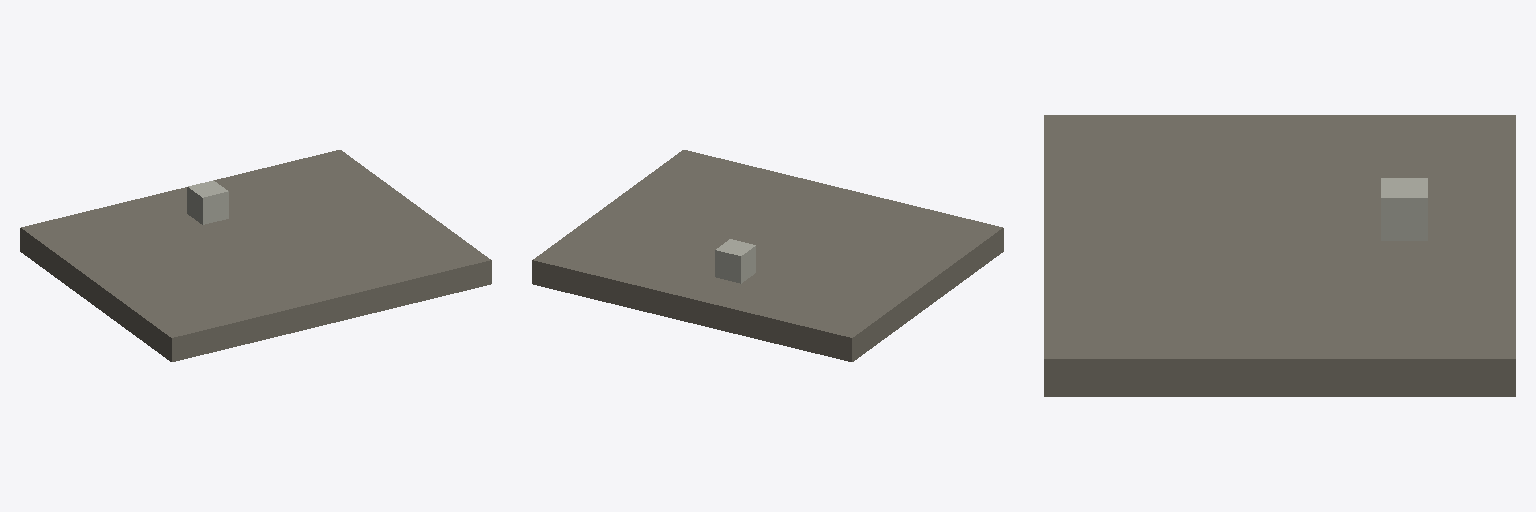
The robot description file, URDF, robot "parttoolgen_hammer_single_cube":
<?xml version="1.0"?>
<robot name="parttoolgen_hammer_single_cube">
  <link name="table_with_target_cube">
    <visual>
      <material name="wood">
        <color rgba="0.52 0.50 0.46 1.0"/>
      </material>
      <origin xyz="0 0 0"/>
      <geometry>
        <box size="0.55 0.45 0.04"/>
      </geometry>
    </visual>
    <collision>
      <origin xyz="0 0 0"/>
      <geometry>
        <box size="0.55 0.45 0.04"/>
      </geometry>
    </collision>

    <visual>
      <material name="target_cube">
        <color rgba="0.72 0.72 0.68 1.0"/>
      </material>
      <origin xyz="-0.013422374156287734 0.11929972616153778 0.042499999999999996"/>
      <geometry>
        <box size="0.045 0.045 0.045"/>
      </geometry>
    </visual>
    <collision>
      <origin xyz="-0.013422374156287734 0.11929972616153778 0.042499999999999996"/>
      <geometry>
        <box size="0.045 0.045 0.045"/>
      </geometry>
    </collision>

    <inertial>
      <mass value="500"/>
      <friction value="1.0"/>
      <inertia ixx="1000.0" ixy="0.0" ixz="0.0" iyy="1000.0" iyz="0.0" izz="1000.0"/>
    </inertial>
  </link>
</robot>

--- Render facts (derived) ---
The picture shows the robot from 3 angles, left to right: view 1: azimuth 30°, elevation 25°; view 2: azimuth 150°, elevation 25°; view 3: azimuth 270°, elevation 25°; orthographic projection.
Robot: parttoolgen_hammer_single_cube — 1 links, 0 joints (none); root link table_with_target_cube; default pose: every joint at zero.
Visible links, largest first — view 1: table_with_target_cube; view 2: table_with_target_cube; view 3: table_with_target_cube.
Link boxes in pixels (x1,y1,x2,y2): table_with_target_cube: (20, 150, 491, 361); table_with_target_cube: (532, 150, 1003, 361); table_with_target_cube: (1044, 115, 1515, 396).
Size in the robot's own frame: 0.55 by 0.45 by 0.085 metres.
Geometry: primitives only (box / cylinder / sphere), no mesh files.
